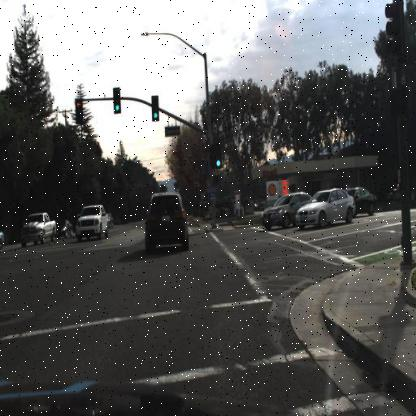car: (141, 187, 191, 261), (294, 186, 356, 228), (70, 202, 110, 247), (16, 212, 56, 253), (256, 191, 297, 227), (340, 185, 377, 219), (52, 214, 73, 240), (53, 218, 75, 238)
trafficLight-Green: (111, 85, 121, 116), (150, 92, 160, 122), (212, 143, 222, 171), (112, 87, 121, 114), (152, 95, 158, 121), (214, 149, 221, 170)
trafficLight-RedLeft: (74, 95, 84, 126)
